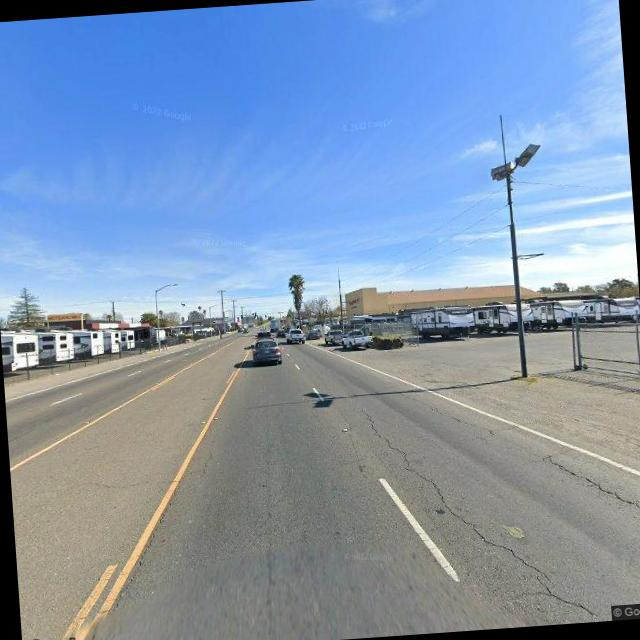crack: (354, 389, 594, 632), (98, 491, 181, 618), (543, 444, 640, 529), (84, 470, 172, 494)
